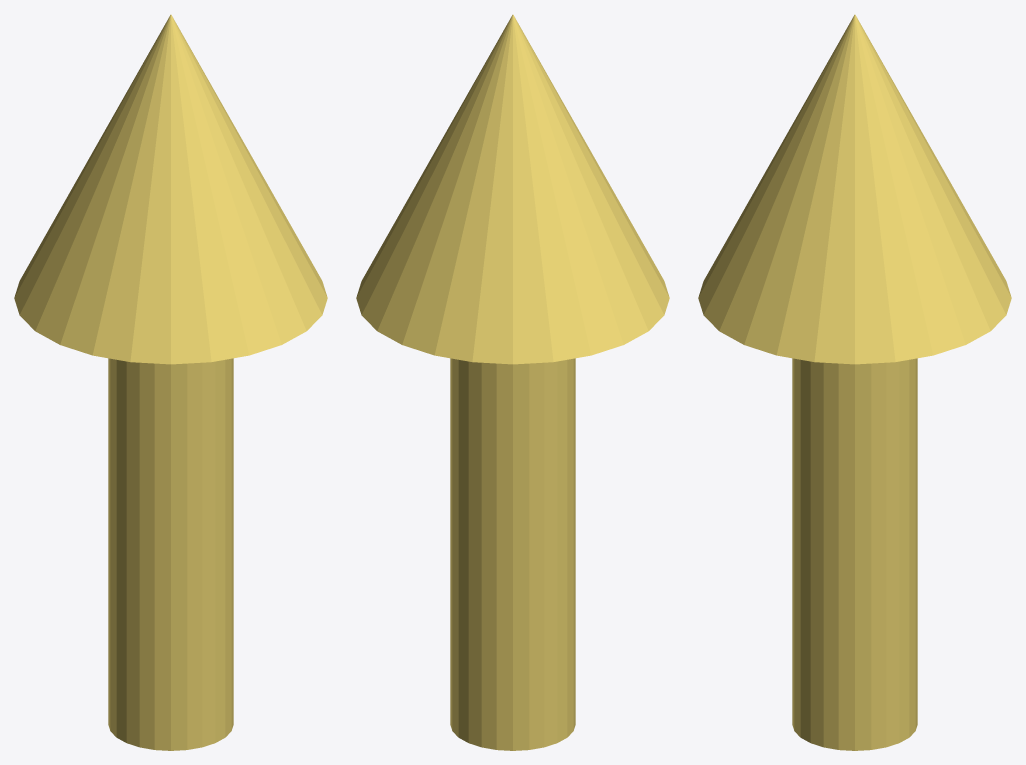
The model's file is exemplo.glb.
3 renders of one model, left to right at view 1: azimuth 30°, elevation 25°; view 2: azimuth 150°, elevation 25°; view 3: azimuth 270°, elevation 25°, orthographic.
Visible parts, largest first — view 1: geometry_0; view 2: geometry_0; view 3: geometry_0.
Boxes of the visible parts, box(x1,y1,x2,y2) form: geometry_0: box(14, 14, 327, 750); geometry_0: box(356, 14, 669, 750); geometry_0: box(698, 14, 1011, 750).
Bounding box in the file's own units: 0.4 × 1 × 0.4.
